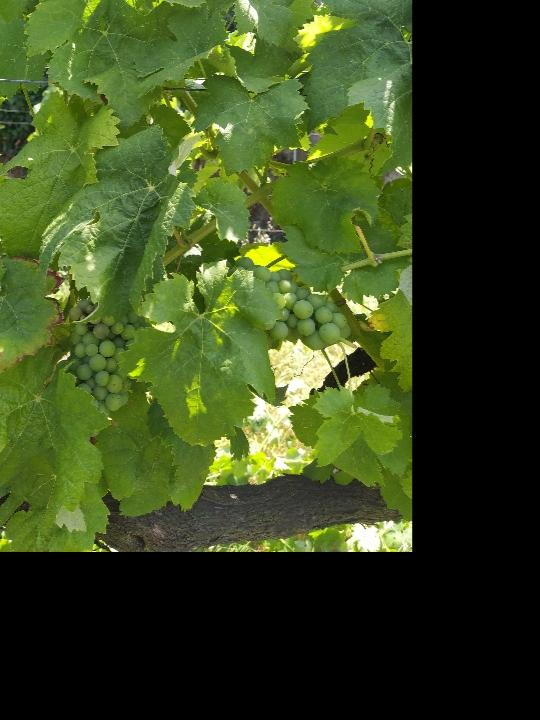grape: (224, 252, 352, 353), (65, 298, 144, 420)
